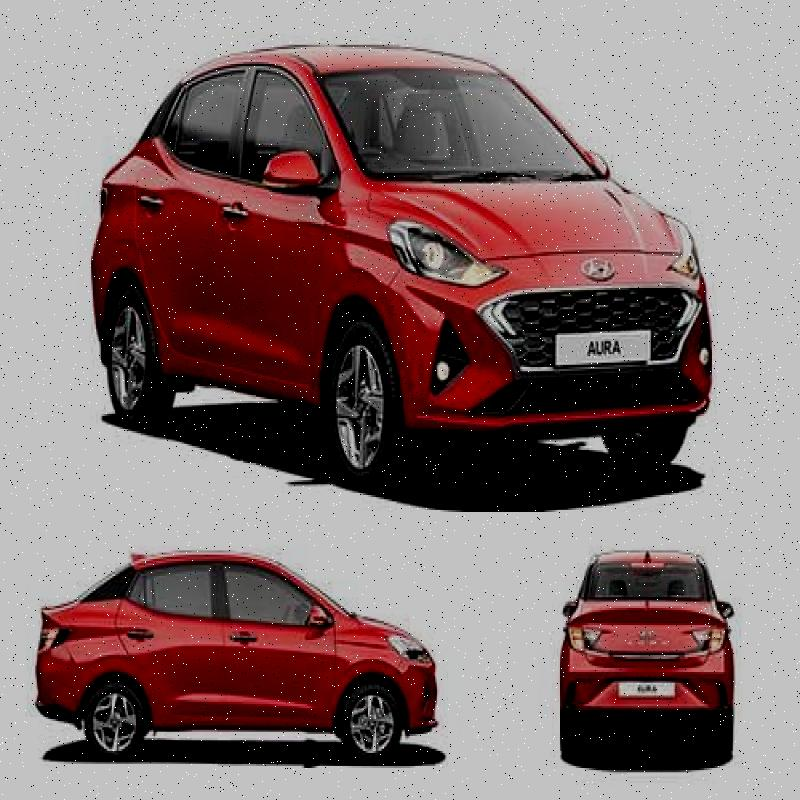car: (90, 22, 714, 450), (7, 530, 448, 760), (528, 540, 746, 764)
